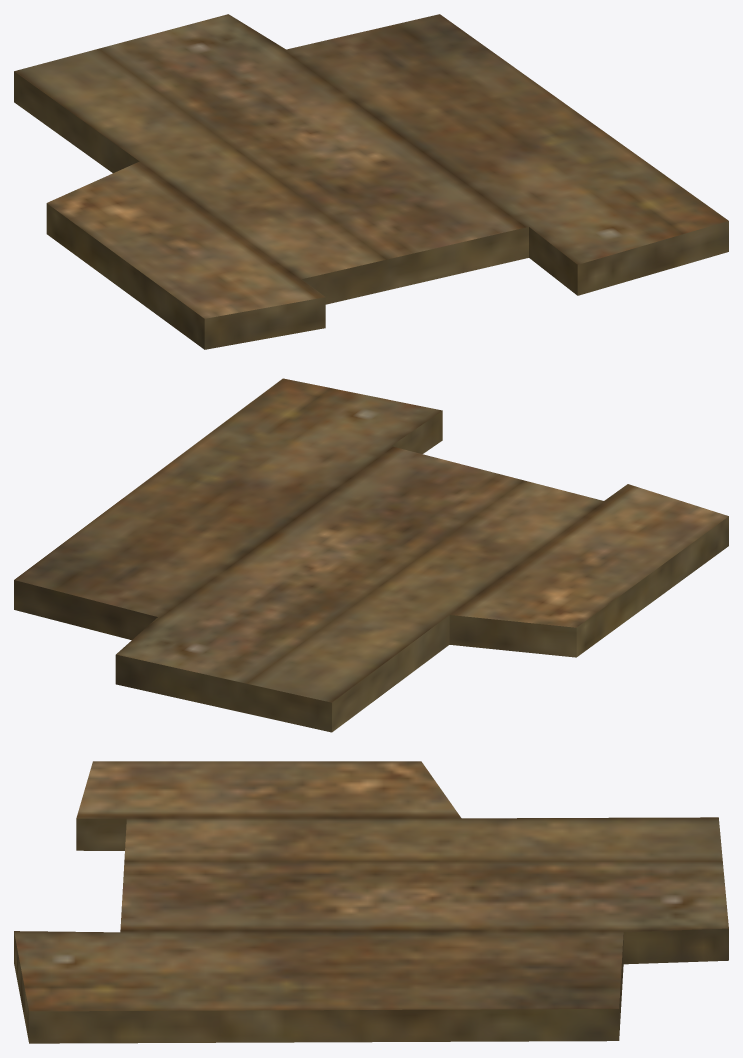
File: WoodDecor06.glb
3 views of the same model, one above another, from view 1: azimuth 30°, elevation 25°; view 2: azimuth 150°, elevation 25°; view 3: azimuth 270°, elevation 25° (orthographic). The views are drawn at different scales.
Visible parts, largest first — view 1: WoodDecor06; view 2: WoodDecor06; view 3: WoodDecor06.
Boxes of the visible parts, bbox=[...] form: WoodDecor06: bbox=[14, 14, 728, 349]; WoodDecor06: bbox=[14, 378, 728, 732]; WoodDecor06: bbox=[14, 761, 728, 1043].
Size of what is drawn, in the model's own units: 0.8328 by 0.0501 by 1.01.
1 material, 1 textured.
